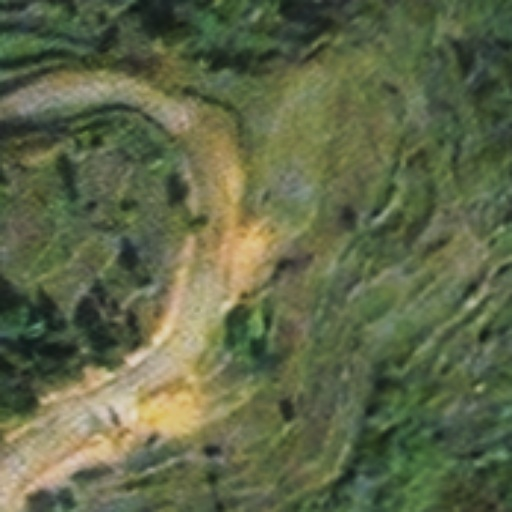landslide: (137, 370, 251, 442), (212, 219, 285, 303)
